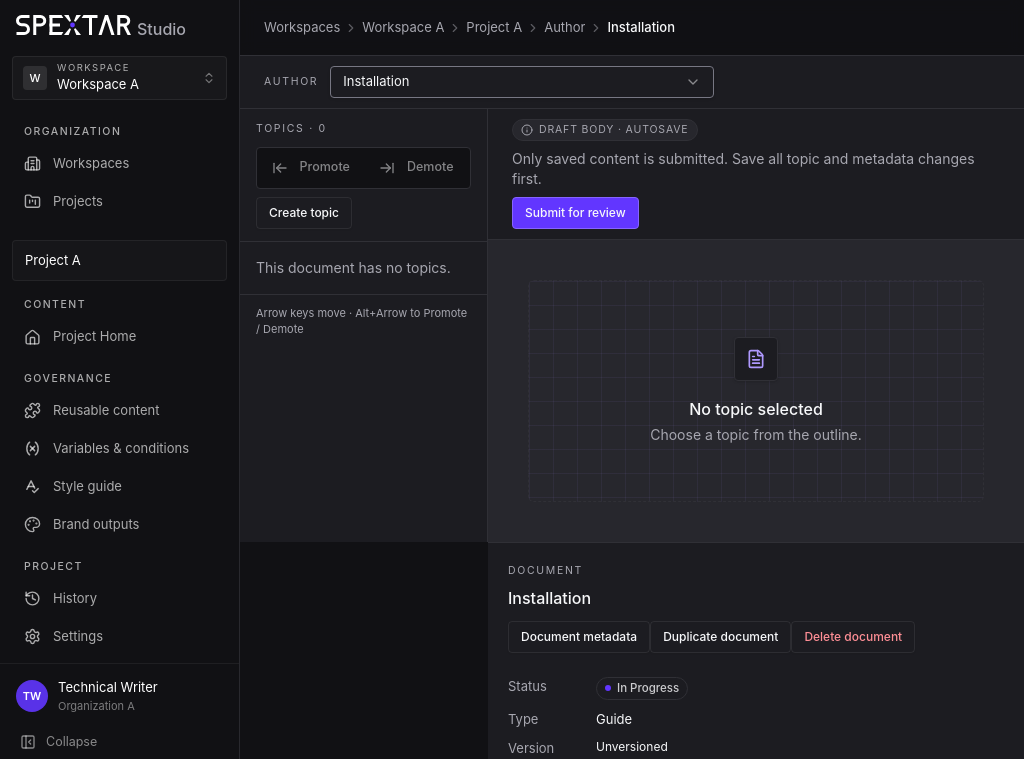
Test case: F2 destructive confirmation and navigation › deletes an empty document from Author and navigates away before the detail becomes missing
Click the button "Delete document" at (853, 636), box left=791, top=620, right=915, bottom=652
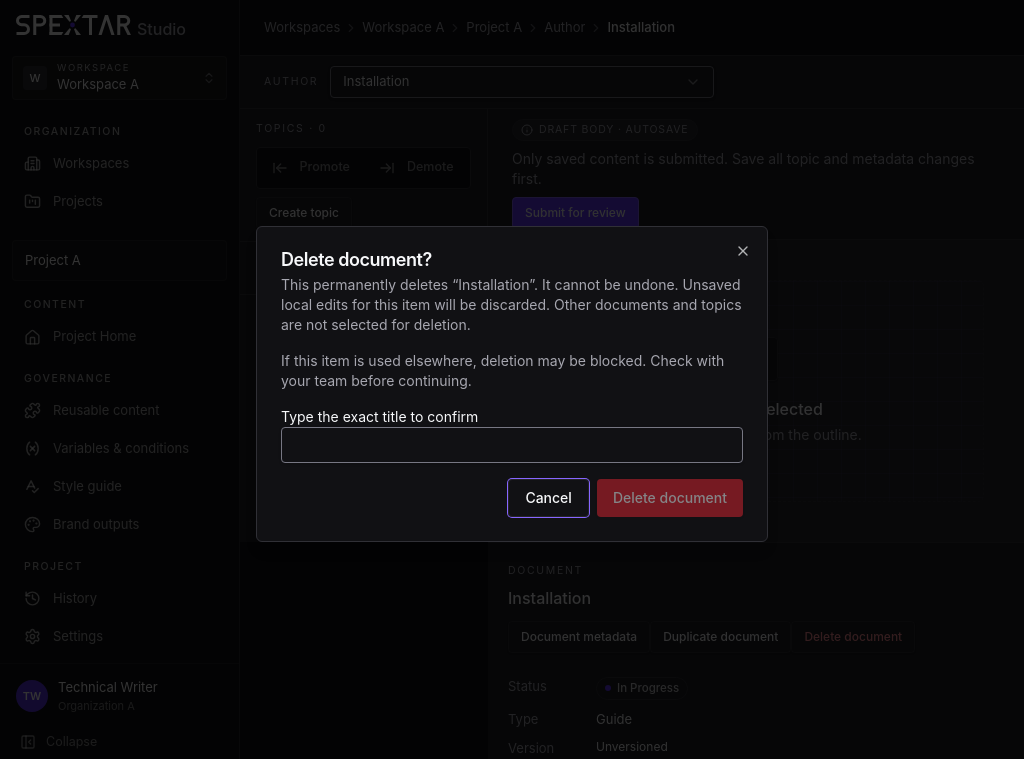
Type "Installation" into the field named "Title to confirm deletion" at (512, 445), box left=281, top=427, right=743, bottom=463
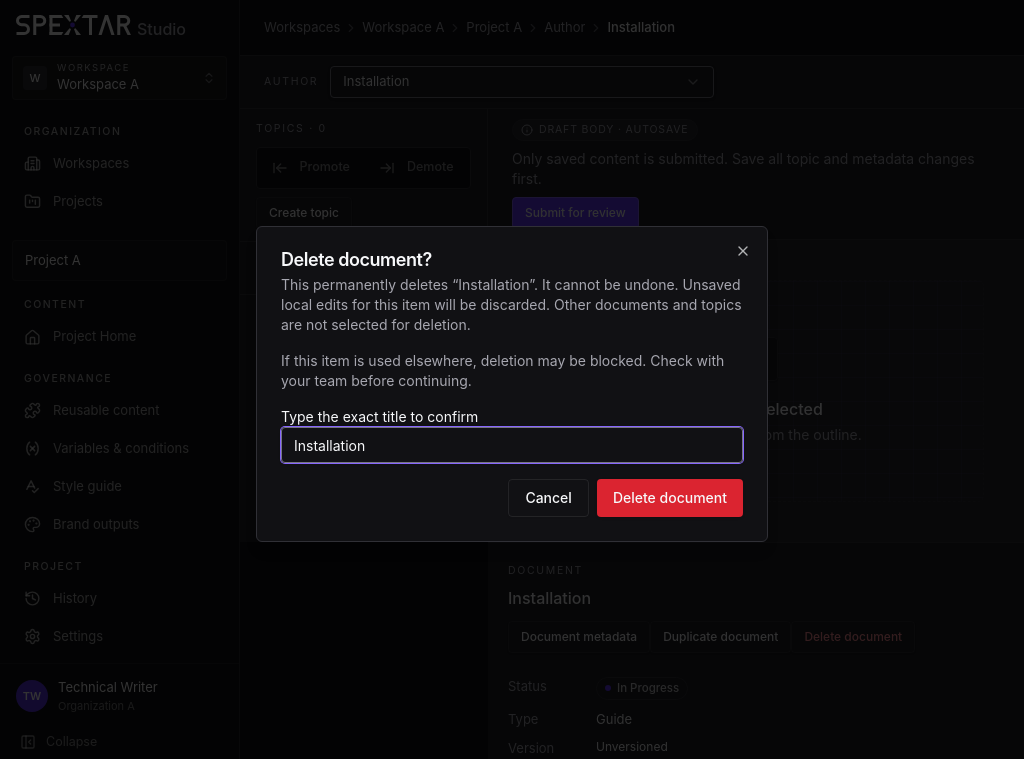
Click the button "Delete document" at (670, 498), box left=597, top=479, right=743, bottom=517
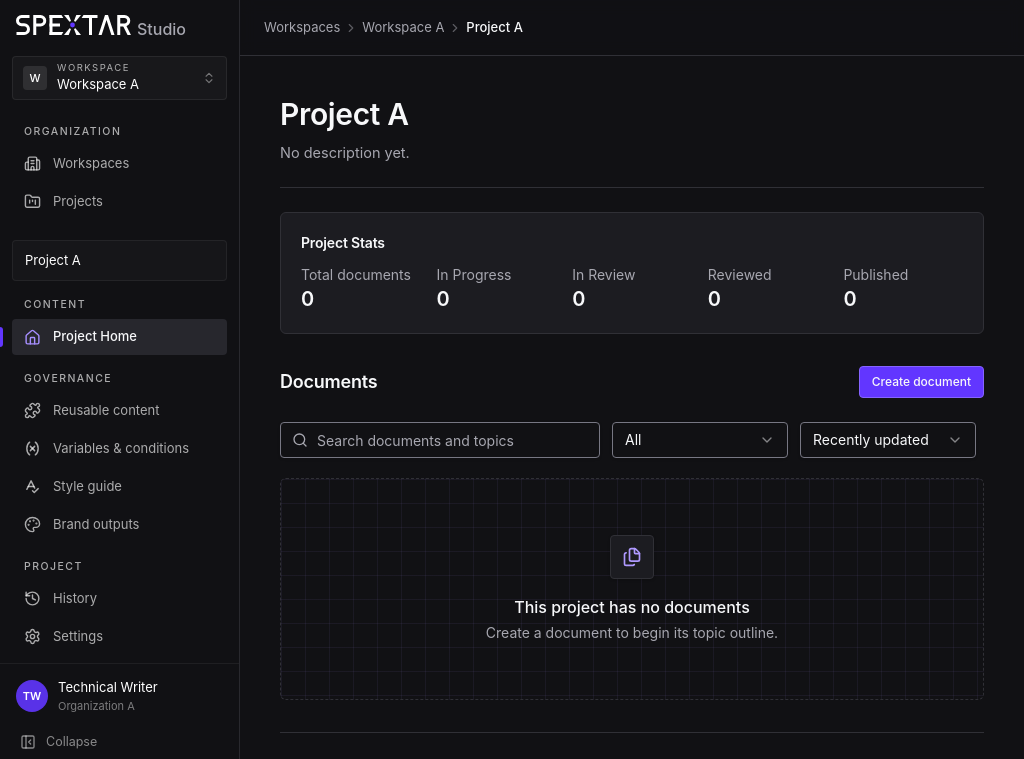
Now the dialog is gone
Now the button "Create document" is shown, box left=859, top=366, right=984, bottom=398
Now the text "Installation" is gone
